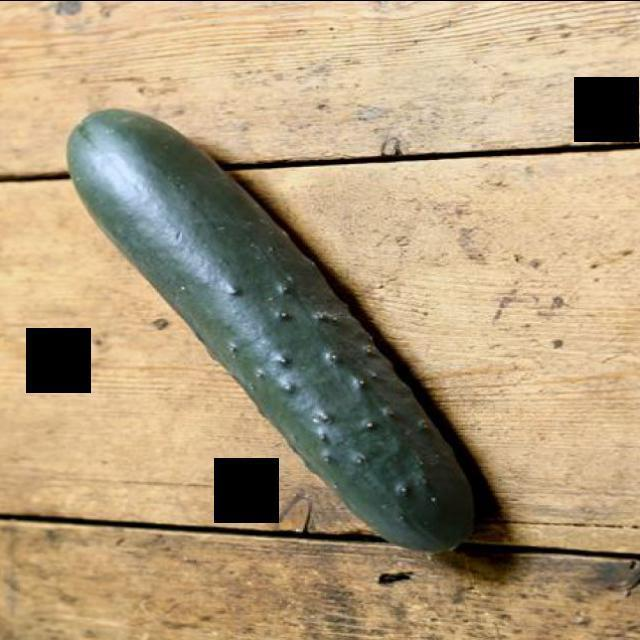cucumber: (62, 103, 488, 558)
